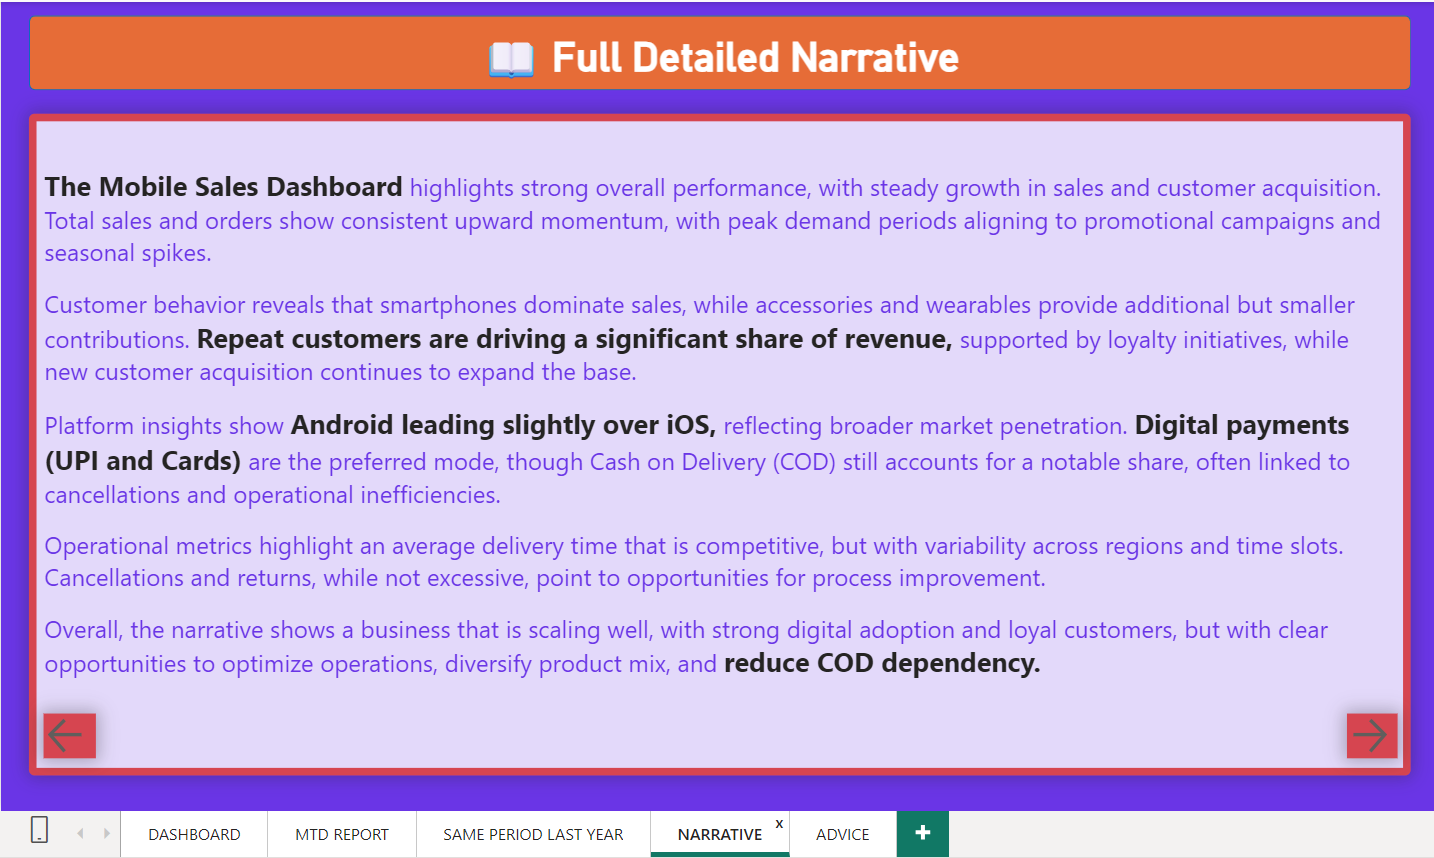

This screenshot's page, from the dashboard's own definition file:
{"tool":"powerbi","page":{"name":"NARRATIVE","canvas":[1280,720],"ordinal":3},"visuals":[{"type":"textbox","box":[24.9,99.5,1231.2,589.4],"z":0},{"type":"shape","box":[24.9,11.8,1231.2,66.8],"z":1000},{"type":"actionButton","box":[37.4,633.9,46.5,40],"z":2000},{"type":"actionButton","box":[1199.3,633.9,45.2,40],"z":3000}]}

Visuals, with their boxes on the page's 1280x720 design canvas (x1, y1, x2, y2). These are canvas units, not pixel positions in the 1434x858 screenshot, which may show the page scaled, cropped or inside an application window:
textbox: (left=25, top=100, right=1256, bottom=689)
shape: (left=25, top=12, right=1256, bottom=79)
actionButton: (left=37, top=634, right=84, bottom=674)
actionButton: (left=1199, top=634, right=1244, bottom=674)
